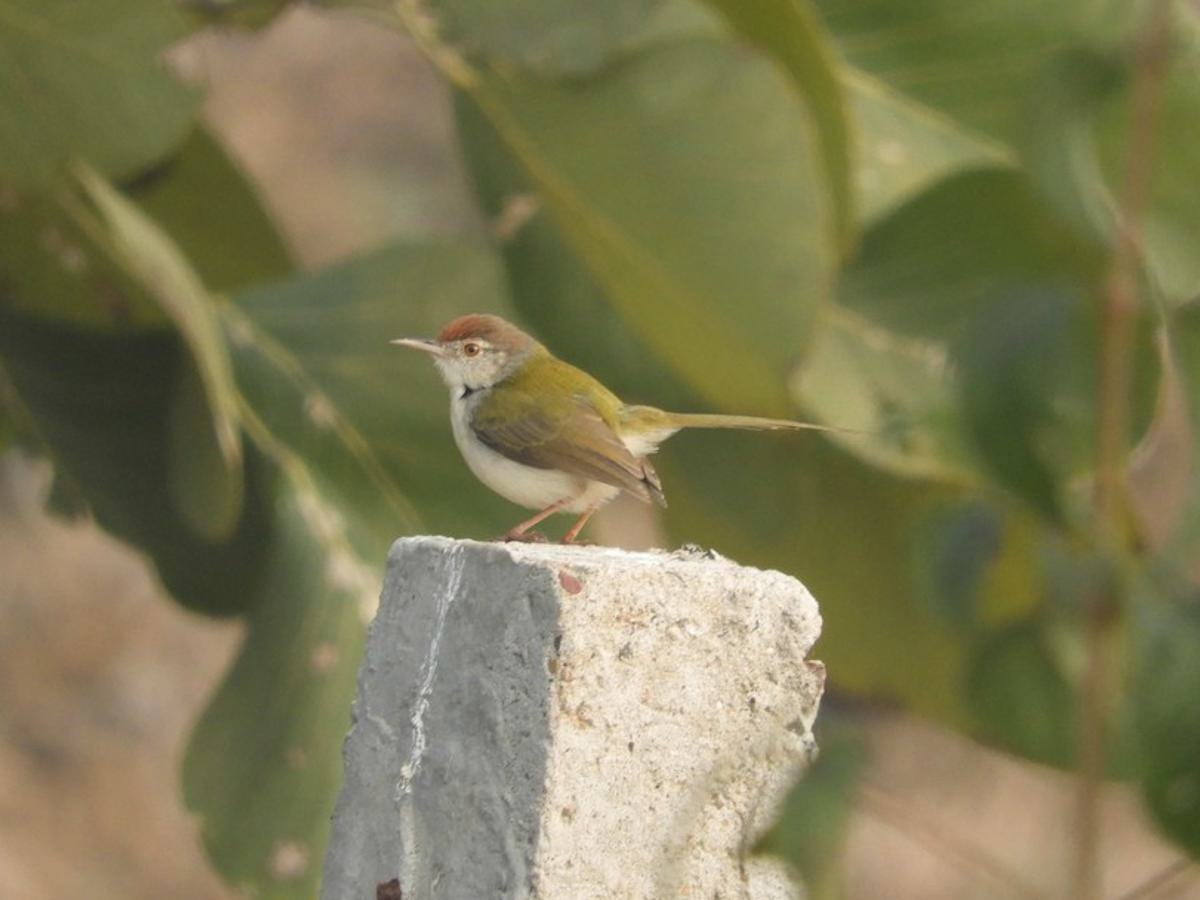tailorbird: (385, 296, 825, 550)
